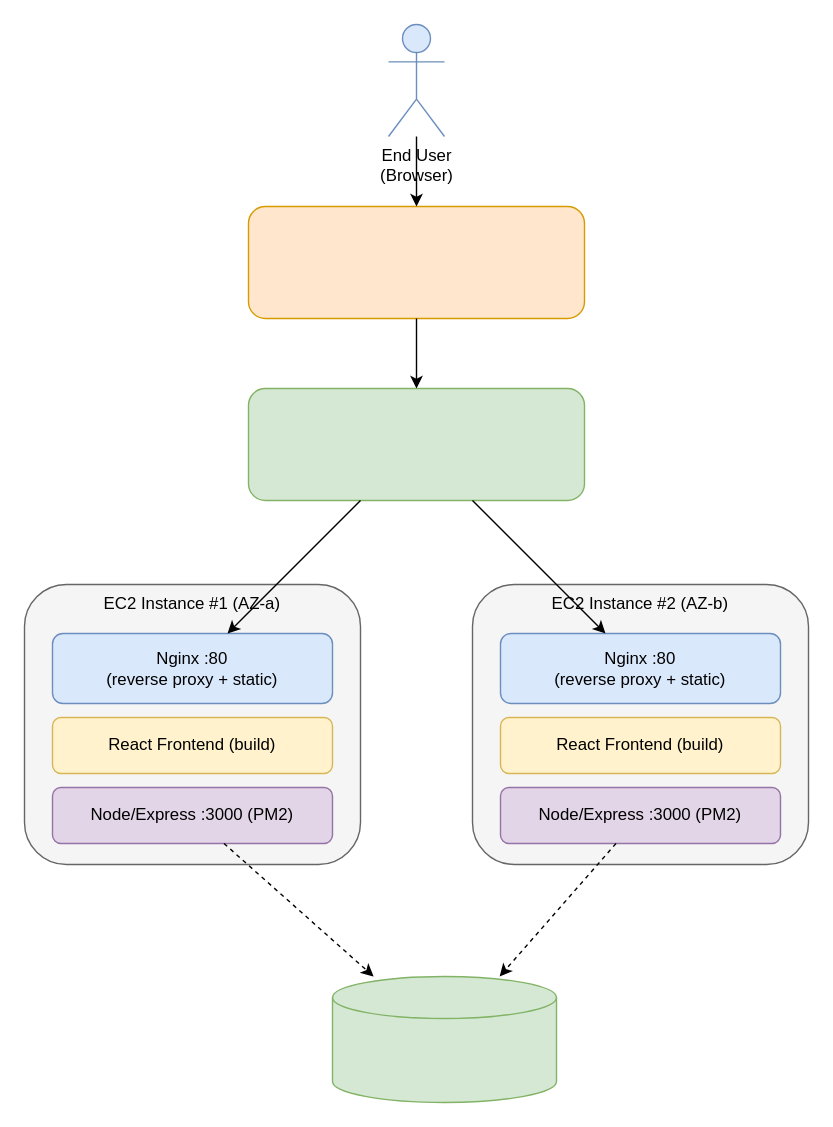
Image size: 833x1127. Some labels were removed from this diagram. Each missing label, with the centre of its shape:
"Application Load Balancer (ALB) Listener :80 / :443 Target Group (HTTP :80)" goes at point (415, 443).
"Cloudflare Custom Domain (DNS + SSL/TLS) A record → EC2 IP CNAME → ALB endpoint" goes at point (415, 261).
"MongoDB Atlas (managed database)" goes at point (443, 1038).
